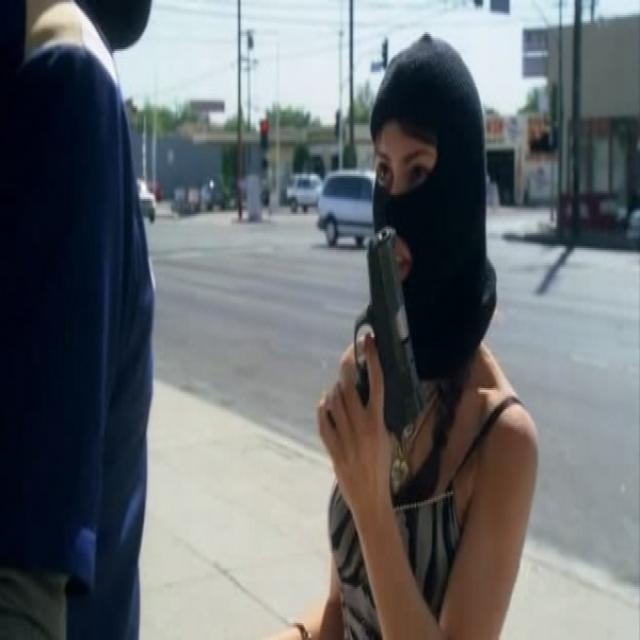weapons: (329, 210, 433, 466)
